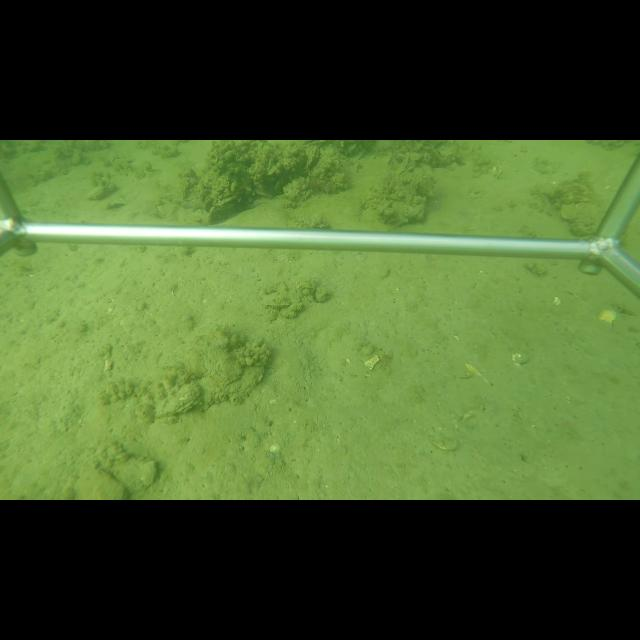Oyster-Closed: (104, 455, 161, 491), (153, 378, 204, 418), (558, 201, 602, 238), (377, 198, 426, 227), (207, 191, 242, 224), (178, 198, 199, 210)
